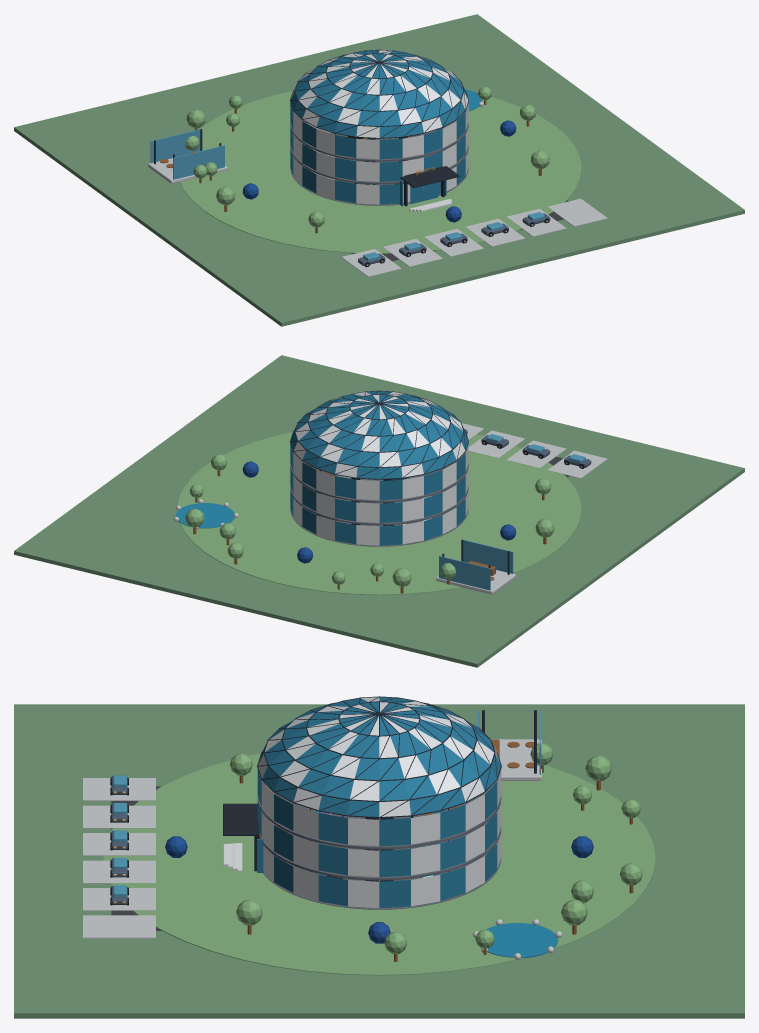
File: museum.glb
3 views of the same model, one above another, from view 1: azimuth 30°, elevation 25°; view 2: azimuth 150°, elevation 25°; view 3: azimuth 270°, elevation 25° (orthographic). The views are drawn at different scales.
Visible parts, largest first — view 1: Campus Ground, Central Garden, Cafe Glass Wall, Cafe Glass Wall.001, Parking Bay 6, Museum Floor 3, Parking Bay 3, Parking Bay 1, Parking Bay 4, Parking Bay 2, Parking Bay 5, DRAVYA Entrance Canopy (+1 smaller); view 2: Campus Ground, Central Garden, Cafe Glass Wall, Cafe Glass Wall.001, Campus Pond, Museum Floor 3, Museum Floor 2, Parking Bay 1, Parking Bay 2, Parking Bay 3, Cafe Foundation; view 3: Campus Ground, Central Garden, Campus Pond, Parking Bay 6, Parking Bay 2, Museum Floor 3, Parking Bay 1, Parking Bay 4, Parking Bay 3, Parking Bay 5, Cafe Foundation, Museum Floor 2 (+29 smaller).
Part boxes in pixels (bbox=[...]): Campus Ground: bbox=[14, 14, 744, 326]; Central Garden: bbox=[180, 91, 581, 253]; Cafe Glass Wall: bbox=[173, 145, 224, 179]; Cafe Glass Wall.001: bbox=[150, 129, 200, 163]; Parking Bay 6: bbox=[548, 198, 607, 226]; Museum Floor 3: bbox=[290, 112, 468, 161]; Parking Bay 3: bbox=[424, 228, 483, 256]; Parking Bay 1: bbox=[341, 249, 401, 276]; Parking Bay 4: bbox=[465, 218, 525, 246]; Parking Bay 2: bbox=[383, 239, 442, 266]; Parking Bay 5: bbox=[506, 208, 566, 236]; DRAVYA Entrance Canopy: bbox=[400, 166, 459, 187]; Campus Ground: bbox=[14, 355, 744, 667]; Central Garden: bbox=[177, 432, 581, 594]; Cafe Glass Wall: bbox=[463, 540, 513, 573]; Cafe Glass Wall.001: bbox=[439, 556, 490, 590]; Campus Pond: bbox=[175, 503, 234, 528]; Museum Floor 3: bbox=[290, 453, 468, 502]; Museum Floor 2: bbox=[290, 476, 468, 525]; Parking Bay 1: bbox=[548, 450, 607, 478]; Parking Bay 2: bbox=[506, 440, 566, 468]; Parking Bay 3: bbox=[468, 430, 524, 458]; Cafe Foundation: bbox=[436, 560, 515, 594]; Campus Ground: bbox=[14, 704, 744, 1018]; Central Garden: bbox=[103, 753, 655, 975]; Campus Pond: bbox=[480, 923, 558, 958]; Parking Bay 6: bbox=[83, 915, 155, 938]; Parking Bay 2: bbox=[83, 805, 155, 828]; Museum Floor 3: bbox=[257, 781, 501, 849]; Parking Bay 1: bbox=[83, 778, 155, 801]; Parking Bay 4: bbox=[83, 860, 155, 883]; Parking Bay 3: bbox=[83, 833, 155, 855]; Parking Bay 5: bbox=[83, 888, 155, 910]; Cafe Foundation: bbox=[491, 739, 541, 780]; Museum Floor 2: bbox=[259, 813, 501, 880].
Size of what is drawn, in the model's own units: 90 by 20.45 by 90.
